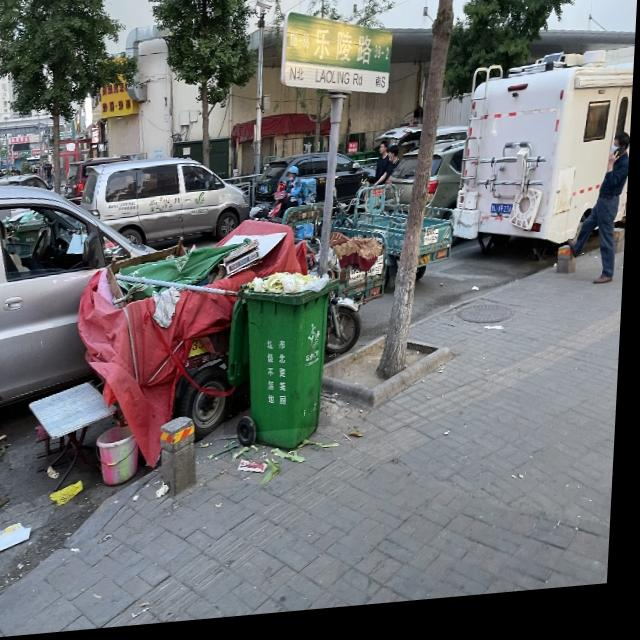garbage: (201, 430, 367, 493)
overflow: (228, 272, 343, 459)
